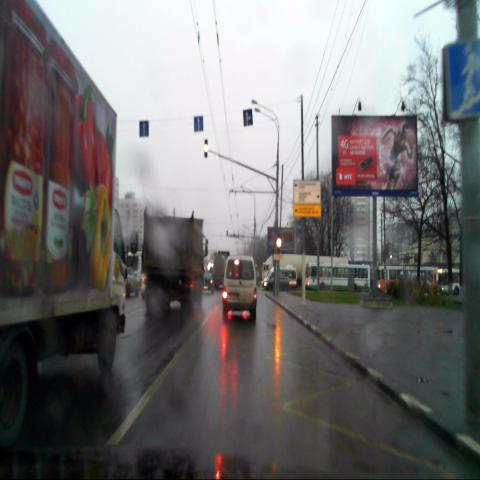5_15_2: (139, 121, 149, 138), (194, 115, 203, 132), (243, 109, 252, 126)
